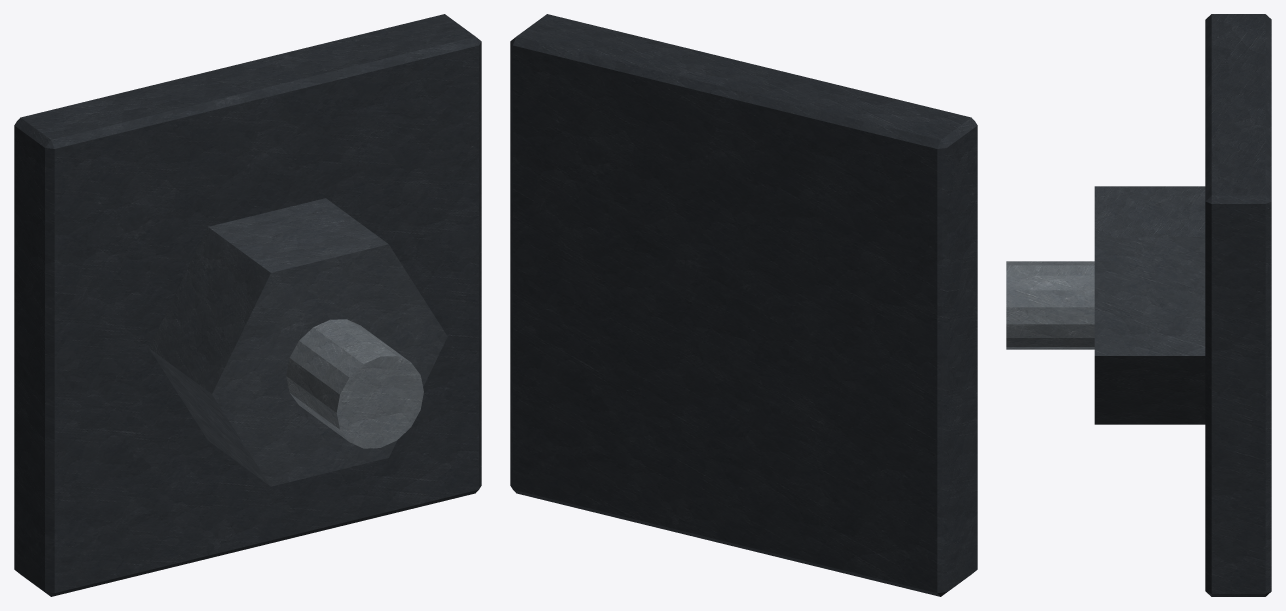
The model's file is train_bolt.gltf.
3 renders of one model, left to right at view 1: azimuth 30°, elevation 25°; view 2: azimuth 150°, elevation 25°; view 3: azimuth 270°, elevation 25°, orthographic. The views are drawn at different scales.
Bounding box in the file's own units: 1 × 1 × 0.6.
Materials: 3 (3 with a texture image).
